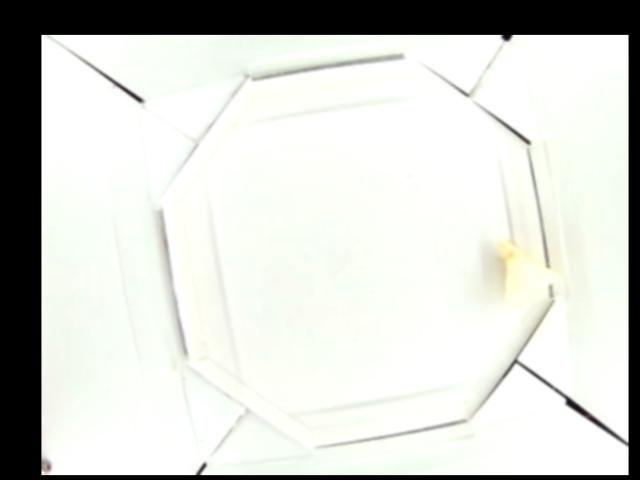Mooli: (495, 238, 557, 305)
